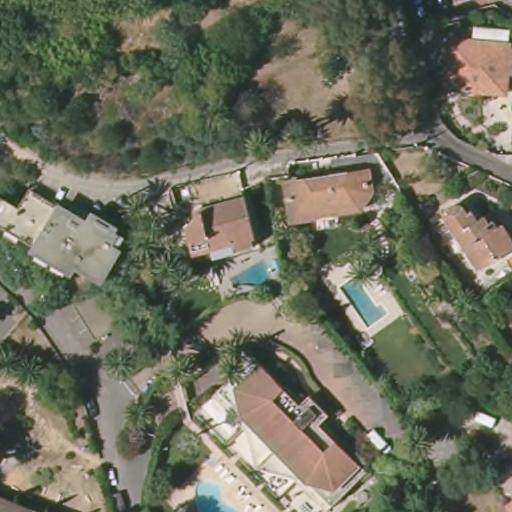pool: (339, 273, 387, 330), (191, 474, 235, 511), (225, 259, 272, 293)
